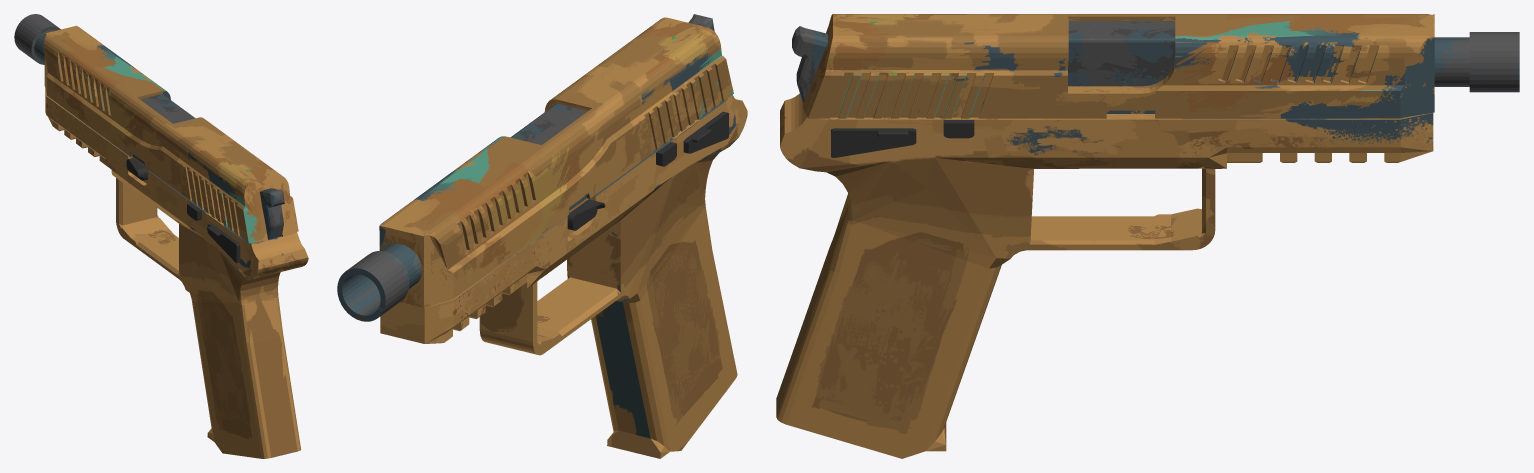
Rendered from fnx45.glb.
3 renders of one model, left to right at view 1: azimuth 30°, elevation 25°; view 2: azimuth 150°, elevation 25°; view 3: azimuth 270°, elevation 25°, orthographic. The views are drawn at different scales.
Visible parts, largest first — view 1: Handle, Corredera, Barril, martillo, Plane.001, Cube.001; view 2: Handle, Corredera, Barril, Plane.001, Cube.001; view 3: Handle, Corredera, Barril, Plane, martillo.
Part boxes in pixels (<box>): Handle: <box>45,89,308,458</box>; Corredera: <box>43,25,298,243</box>; Barril: <box>14,14,195,123</box>; martillo: <box>260,188,284,239</box>; Plane.001: <box>207,223,240,262</box>; Cube.001: <box>126,158,147,180</box>; Handle: <box>380,95,747,458</box>; Corredera: <box>379,17,733,307</box>; Barril: <box>337,103,587,321</box>; Plane.001: <box>683,111,728,153</box>; Cube.001: <box>567,199,605,230</box>; Handle: <box>776,93,1433,458</box>; Corredera: <box>802,14,1434,118</box>; Barril: <box>1068,21,1519,92</box>; Plane: <box>831,128,916,157</box>; martillo: <box>792,26,827,103</box>.
Bounding box in the file's own units: 0.7561 × 3.08 × 4.95.
Materials: 4 (3 with a texture image).
